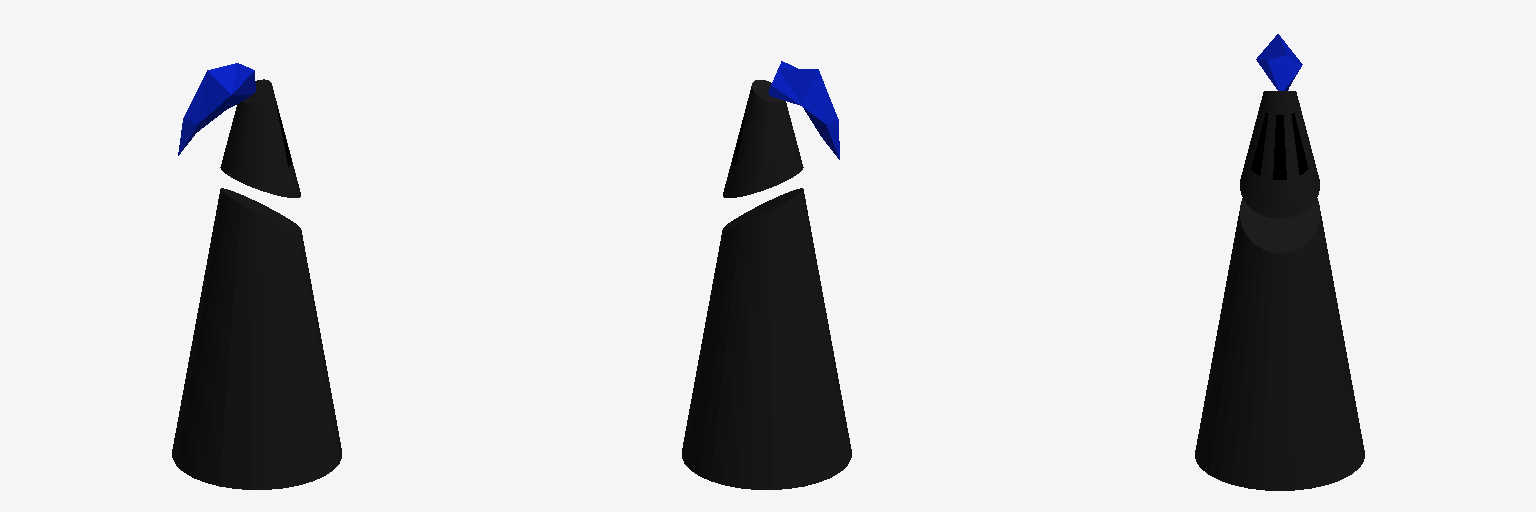
Rendered from unitSoldier.obj.
3 renders of one model, left to right at view 1: azimuth 30°, elevation 25°; view 2: azimuth 150°, elevation 25°; view 3: azimuth 270°, elevation 25°, orthographic.
Visible parts, largest first — view 1: Cube_Cube.001; view 2: Cube_Cube.001; view 3: Cube_Cube.001.
Boxes of the visible parts, x1,y1,x2,y2 form: Cube_Cube.001: [172, 63, 341, 489]; Cube_Cube.001: [682, 61, 851, 489]; Cube_Cube.001: [1195, 34, 1364, 490].
Bounding box in the file's own units: 0.9367 × 2.36 × 0.9215.